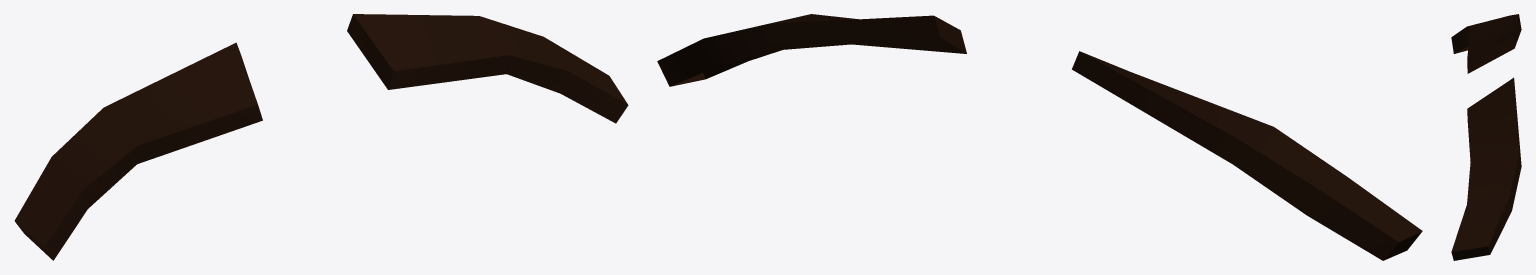
The model's file is Brow 06.FBX.
The picture shows the model from 3 angles, left to right: view 1: azimuth 30°, elevation 25°; view 2: azimuth 150°, elevation 25°; view 3: azimuth 270°, elevation 25°; orthographic projection. The views are drawn at different scales.
Visible parts, largest first — view 1: Brow 06; view 2: Brow 06; view 3: Brow 06.
Boxes of the visible parts, x1=… form: Brow 06: x1=14, y1=14, x2=628, y2=260; Brow 06: x1=657, y1=14, x2=1422, y2=260; Brow 06: x1=1451, y1=14, x2=1521, y2=260.
Bounding box in the file's own units: 22.49 × 3.05 × 4.87.
